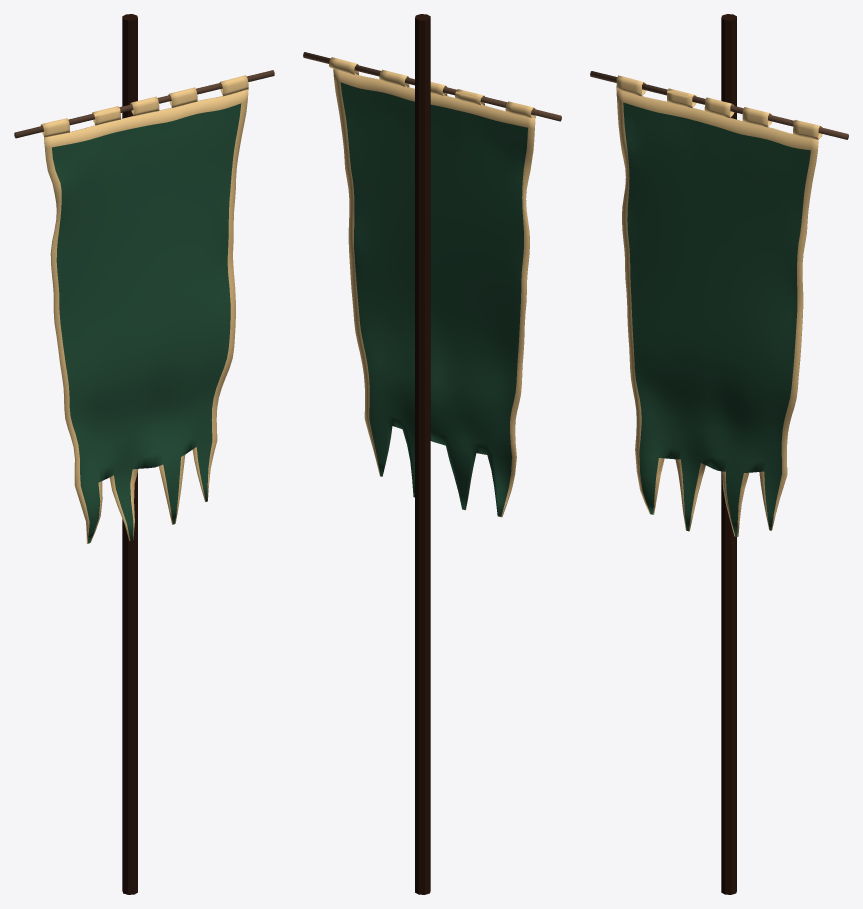
File: Arazzo verde .fbx
3 views of the same model, side by side, from view 1: azimuth 30°, elevation 25°; view 2: azimuth 150°, elevation 25°; view 3: azimuth 330°, elevation 25° (orthographic).
Parts seen in each view (by area): view 1: arazzo.010, Cylinder.018; view 2: arazzo.010, Cylinder.018; view 3: arazzo.010, Cylinder.018.
Part boxes in pixels (x1,y1,x2,y2): arazzo.010: (14, 70, 274, 543); Cylinder.018: (122, 14, 137, 894); arazzo.010: (303, 52, 561, 517); Cylinder.018: (415, 14, 430, 894); arazzo.010: (590, 71, 848, 536); Cylinder.018: (721, 14, 736, 894).
Bounding box in the file's own units: 277 × 899 × 50.67.
